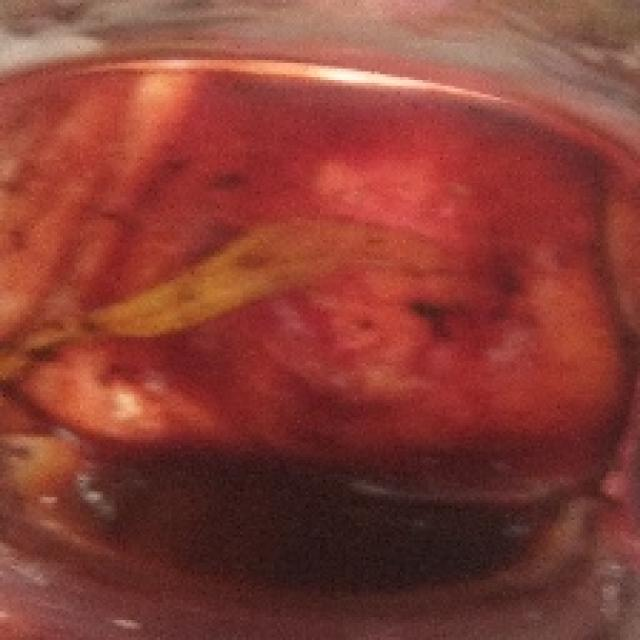type-2: (0, 14, 633, 593)
